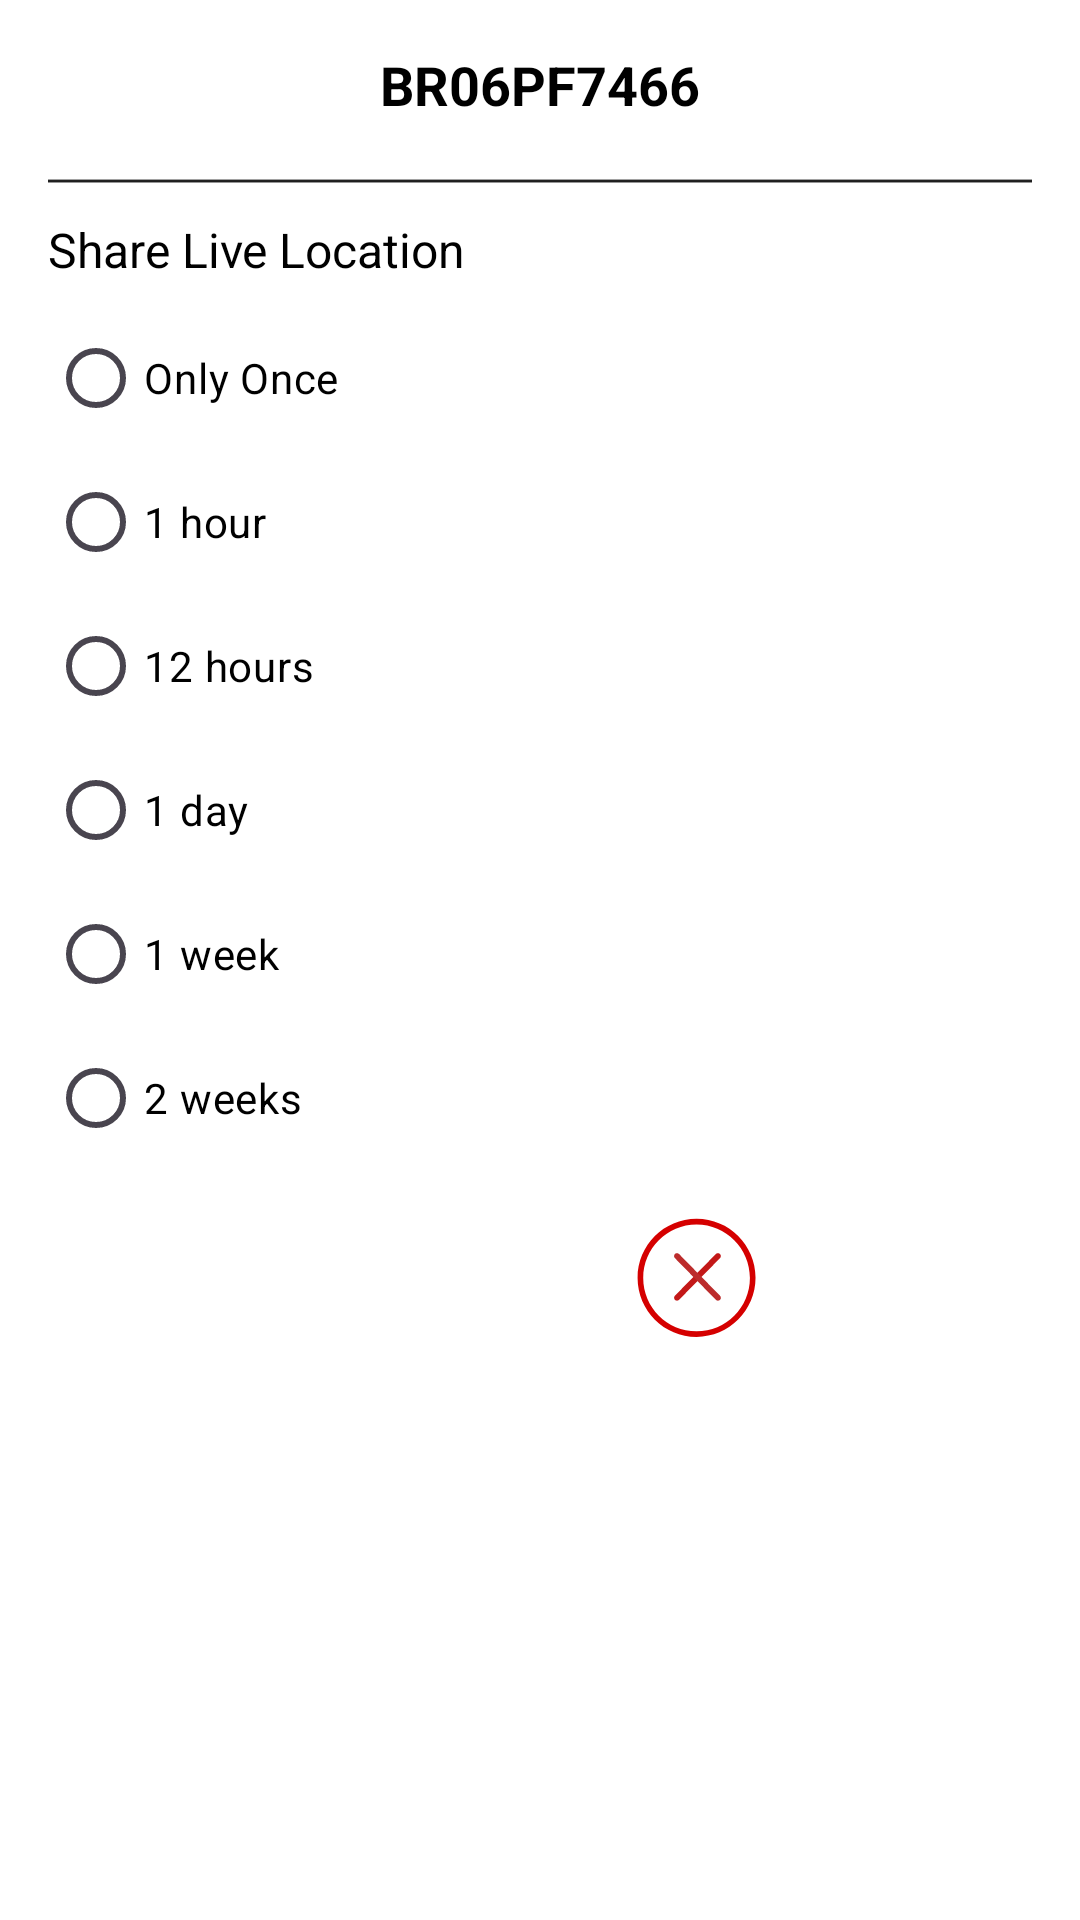

Named icons in this screenshot (1080 x 1920) and their centers, point (x, y):
wrong: point (696, 1277)
